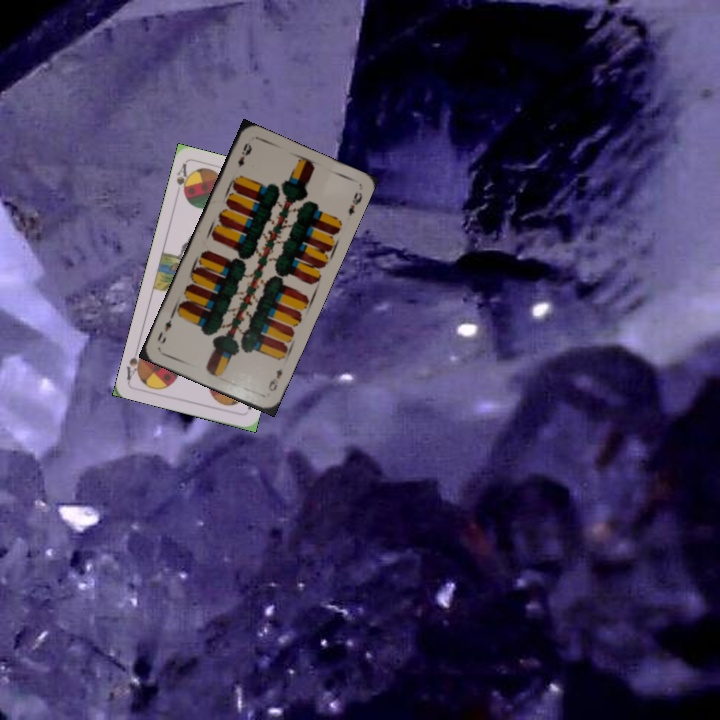E9: (234, 138, 255, 169), (264, 365, 285, 394)
SA: (172, 160, 194, 201)
